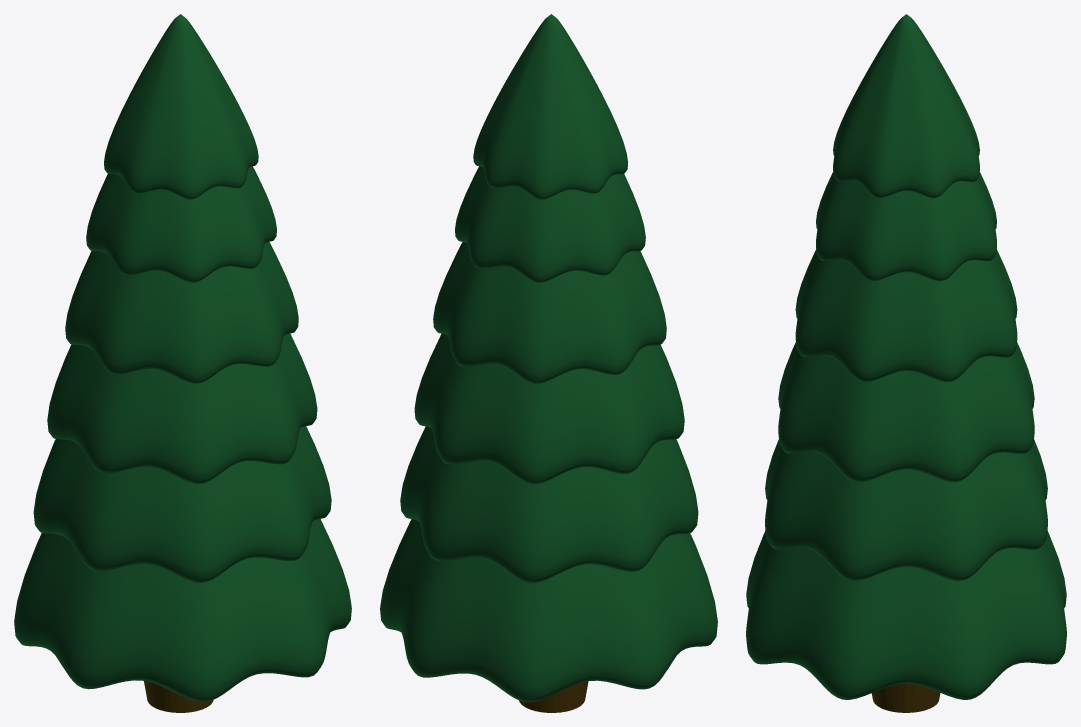
Rendered from brad.fbx.
3 views of the same model, side by side, from view 1: azimuth 30°, elevation 25°; view 2: azimuth 150°, elevation 25°; view 3: azimuth 270°, elevation 25° (orthographic).
Parts seen in each view (by area): view 1: Circle.005, Circle.004, Circle.003, Circle.002, Circle, Circle.001, Cylinder; view 2: Circle.005, Circle.004, Circle.003, Circle.002, Circle, Circle.001, Cylinder; view 3: Circle.005, Circle.004, Circle.003, Circle.002, Circle, Circle.001, Cylinder.
Part boxes in pixels (x1,y1,x2,y2): Circle.005: (14, 519, 351, 701); Circle.004: (33, 426, 331, 582); Circle.003: (47, 333, 317, 483); Circle.002: (65, 242, 298, 383); Circle: (104, 14, 258, 199); Circle.001: (86, 166, 276, 282); Cylinder: (144, 681, 213, 712); Circle.005: (380, 519, 717, 702); Circle.004: (400, 426, 698, 583); Circle.003: (414, 333, 684, 484); Circle.002: (433, 242, 666, 383); Circle: (473, 14, 627, 199); Circle.001: (455, 166, 645, 282); Cylinder: (519, 681, 588, 712); Circle.005: (746, 530, 1066, 699); Circle.004: (765, 439, 1047, 580); Circle.003: (778, 342, 1034, 482); Circle.002: (795, 249, 1017, 381); Circle: (833, 14, 979, 198); Circle.001: (816, 172, 996, 281); Cylinder: (871, 683, 940, 712).
Size of the model in its own units: 380 by 896 by 380.
